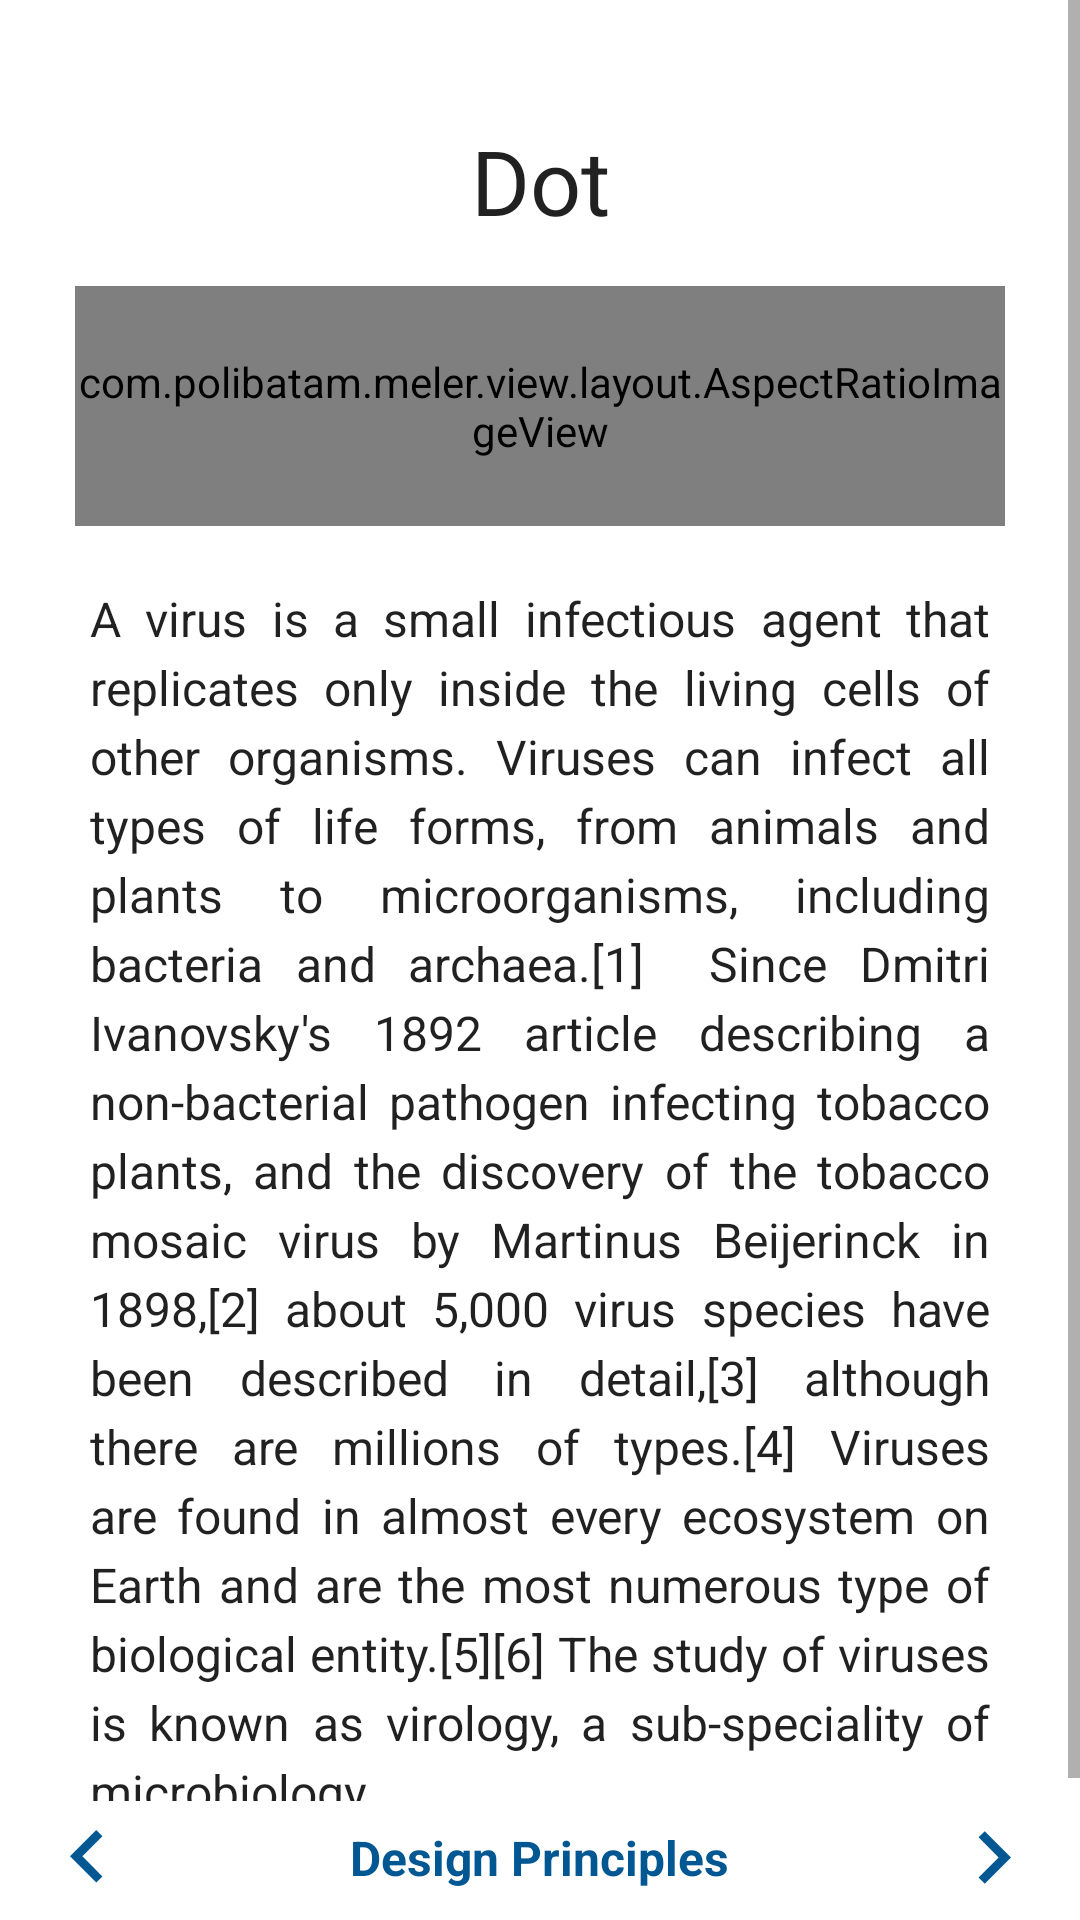

Icons on this 1080px×1920px Android screen, each with the point to tap as point (x, y):
keyboard arrow left: point (86, 1856)
keyboard arrow right: point (994, 1857)
